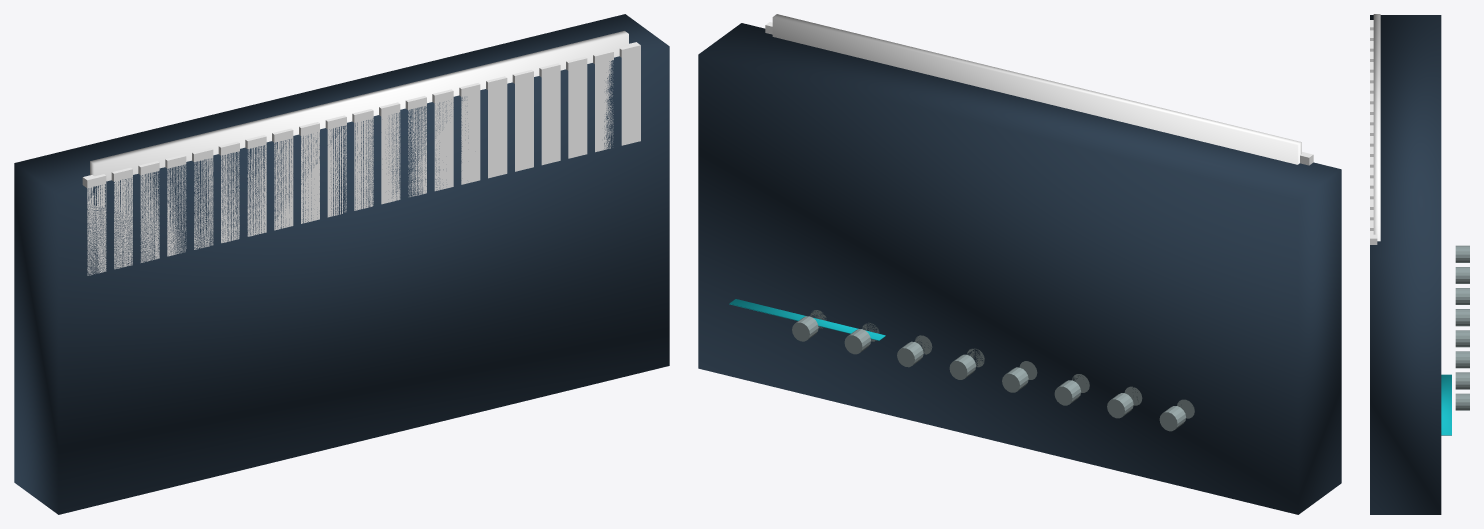
File: moog_sub_phatty.obj
The picture shows the model from 3 angles, left to right: view 1: azimuth 30°, elevation 25°; view 2: azimuth 150°, elevation 25°; view 3: azimuth 270°, elevation 25°; orthographic projection. The views are drawn at different scales.
Visible parts, largest first — view 1: Synth_Body_Cube.014; view 2: Synth_Body_Cube.014; view 3: Synth_Body_Cube.014.
Boxes of the visible parts, <box> form: Synth_Body_Cube.014: <box>14,14,669,514</box>; Synth_Body_Cube.014: <box>698,14,1341,514</box>; Synth_Body_Cube.014: <box>1370,14,1469,514</box>.
Size of the model in its own units: 0.8 by 0.425 by 0.14.
